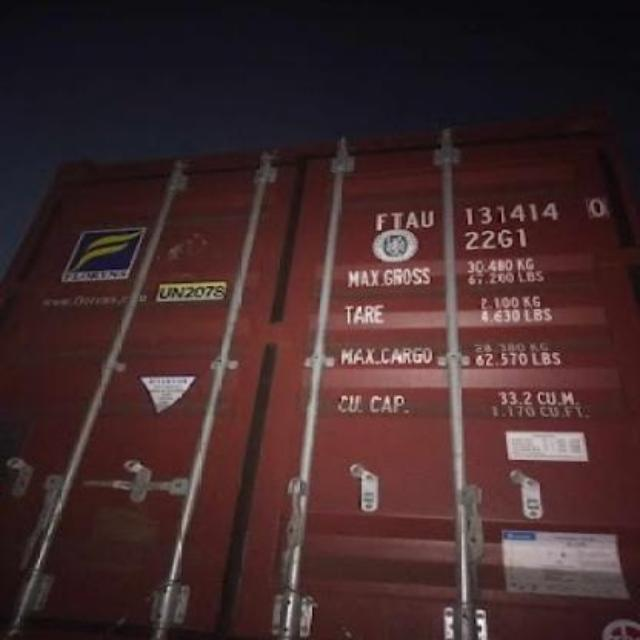0: (586, 194, 614, 222)
1: (458, 198, 474, 230), (526, 196, 542, 224), (494, 200, 510, 227)
3: (476, 200, 494, 227)
4: (540, 196, 560, 224), (512, 197, 526, 226)
A: (404, 202, 420, 234)
F: (367, 202, 388, 234)
T: (388, 201, 404, 233)
U: (420, 202, 436, 232)
